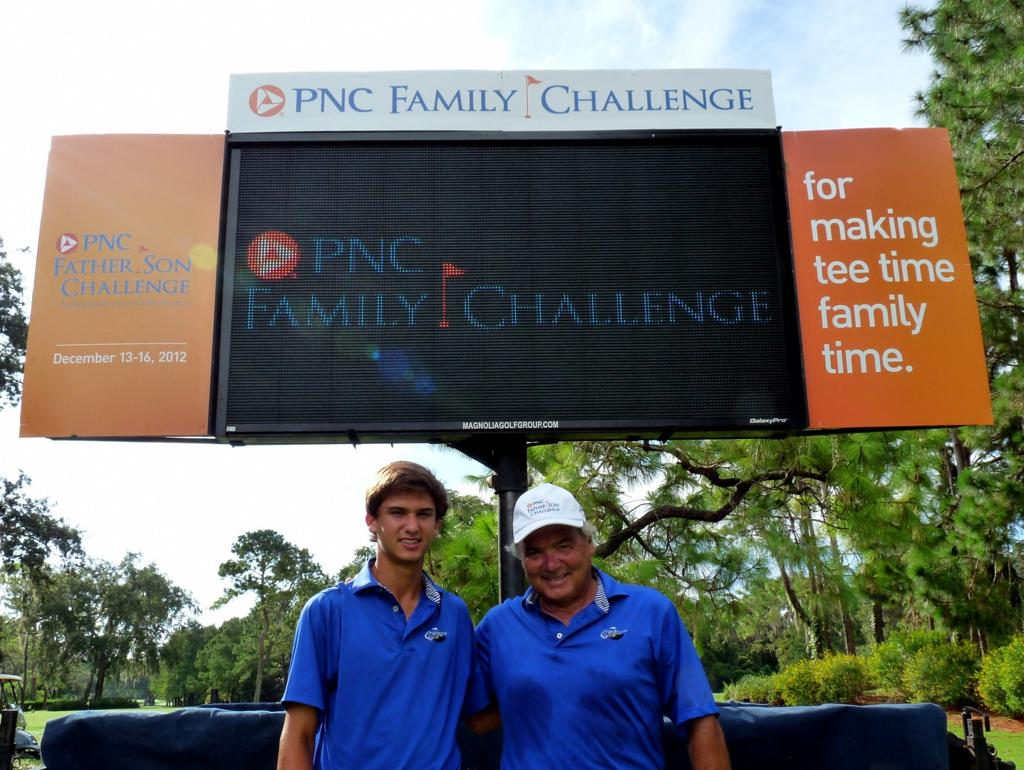face: (524, 528, 594, 600), (382, 484, 436, 560)
